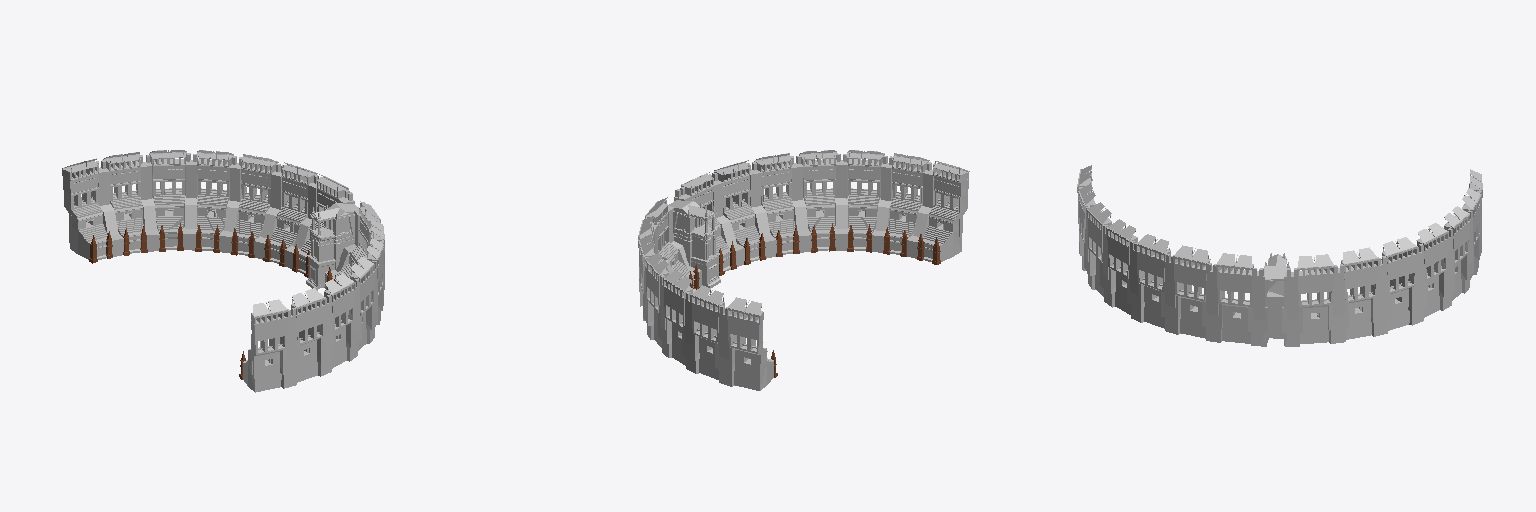
Rendered from arena_front.obj.
The picture shows the model from 3 angles: view 1: azimuth 30°, elevation 25°; view 2: azimuth 150°, elevation 25°; view 3: azimuth 270°, elevation 25°; orthographic projection.
Visible parts, largest first — view 1: polySurface48_メッシュ.082, polySurface35_メッシュ.030, polySurface50_メッシュ.090, pCube267_メッシュ.108, polySurface51_メッシュ.094, polySurface49_メッシュ.086, polySurface52_メッシュ.098, polySurface53_メッシュ.102, polySurface34_メッシュ.026, polySurface33_メッシュ.022, pCube252_メッシュ.088, pCube249_メッシュ.084 (+10 smaller); view 2: polySurface35_メッシュ.030, polySurface48_メッシュ.082, pCube267_メッシュ.108, polySurface33_メッシュ.022, polySurface32_メッシュ.018, polySurface34_メッシュ.026, polySurface31_メッシュ.014, polySurface30_メッシュ.010, polySurface49_メッシュ.086, polySurface50_メッシュ.090, pCube198_メッシュ.016, polySurface29_メッシュ.006 (+10 smaller); view 3: polySurface29_メッシュ.006, polySurface54_メッシュ.106, polySurface30_メッシュ.010, polySurface53_メッシュ.102, polySurface52_メッシュ.098, polySurface31_メッシュ.014, polySurface32_メッシュ.018, pCube267_メッシュ.108, polySurface51_メッシュ.094, pCube264_メッシュ.104, pCube187_メッシュ.002, pCube261_メッシュ.100 (+11 smaller).
Part boxes in pixels (bbox=[...]): polySurface48_メッシュ.082: bbox=[62, 158, 107, 259]; polySurface35_メッシュ.030: bbox=[243, 299, 288, 392]; polySurface50_メッシュ.090: bbox=[149, 150, 186, 249]; pCube267_メッシュ.108: bbox=[306, 203, 358, 290]; polySurface51_メッシュ.094: bbox=[197, 150, 233, 250]; polySurface49_メッシュ.086: bbox=[103, 152, 143, 253]; polySurface52_メッシュ.098: bbox=[236, 154, 278, 255]; polySurface53_メッシュ.102: bbox=[270, 162, 317, 263]; polySurface34_メッシュ.026: bbox=[291, 288, 325, 382]; polySurface33_メッシュ.022: bbox=[324, 273, 354, 368]; pCube252_メッシュ.088: bbox=[183, 153, 197, 250]; pCube249_メッシュ.084: bbox=[140, 155, 159, 251]; polySurface35_メッシュ.030: bbox=[923, 161, 969, 261]; polySurface48_メッシュ.082: bbox=[726, 297, 773, 390]; pCube267_メッシュ.108: bbox=[668, 200, 720, 287]; polySurface33_メッシュ.022: bbox=[847, 150, 884, 250]; polySurface32_メッシュ.018: bbox=[799, 150, 836, 250]; polySurface34_メッシュ.026: bbox=[888, 153, 929, 254]; polySurface31_メッシュ.014: bbox=[754, 153, 795, 254]; polySurface30_メッシュ.010: bbox=[714, 160, 759, 261]; polySurface49_メッシュ.086: bbox=[691, 285, 724, 379]; polySurface50_メッシュ.090: bbox=[663, 270, 692, 365]; pCube198_メッシュ.016: bbox=[835, 153, 848, 250]; polySurface29_メッシュ.006: bbox=[681, 172, 730, 271]; polySurface29_メッシュ.006: bbox=[1216, 253, 1253, 343]; polySurface54_メッシュ.106: bbox=[1297, 256, 1334, 343]; polySurface30_メッシュ.010: bbox=[1173, 245, 1210, 338]; polySurface53_メッシュ.102: bbox=[1341, 250, 1378, 339]; polySurface52_メッシュ.098: bbox=[1381, 237, 1416, 330]; polySurface31_メッシュ.014: bbox=[1136, 234, 1170, 328]; polySurface32_メッシュ.018: bbox=[1106, 219, 1137, 314]; pCube267_メッシュ.108: bbox=[1263, 253, 1289, 341]; polySurface51_メッシュ.094: bbox=[1416, 228, 1448, 317]; pCube264_メッシュ.104: bbox=[1282, 268, 1302, 346]; pCube187_メッシュ.002: bbox=[1248, 269, 1268, 346]; pCube261_メッシュ.100: bbox=[1328, 264, 1348, 343].
Size of the model in its own units: 0.2469 by 0.1013 by 0.4256.